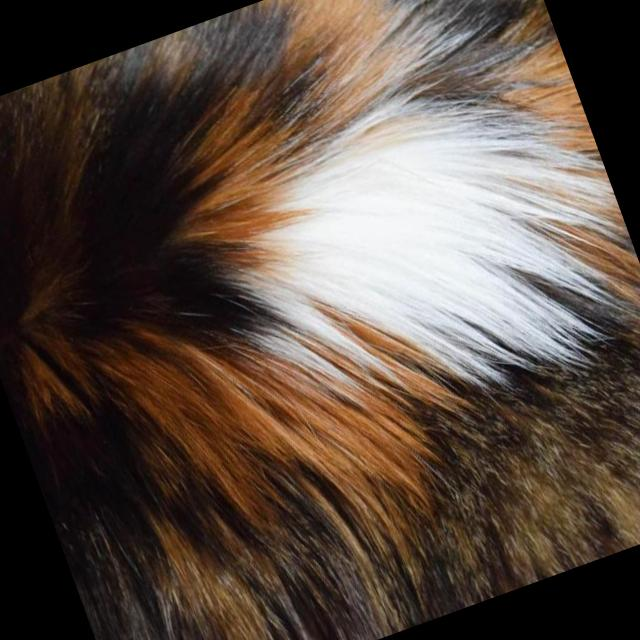Healthy skin: (0, 44, 319, 535), (186, 0, 608, 306), (314, 244, 640, 594), (107, 480, 380, 640)
